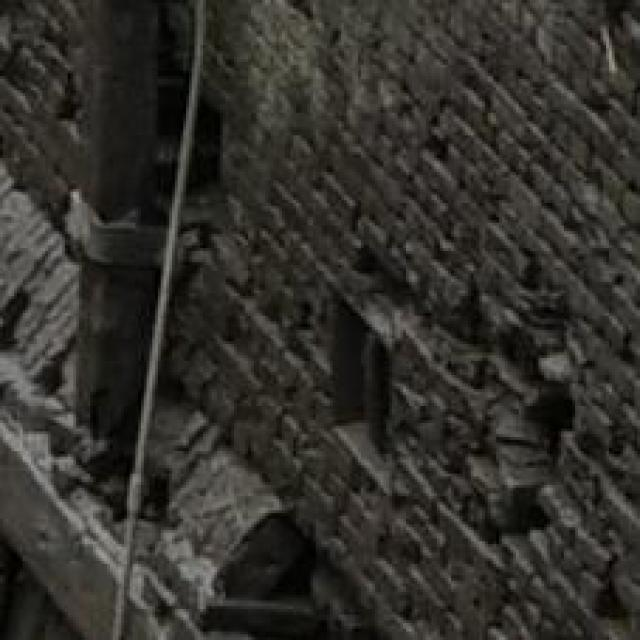Crack: (331, 105, 640, 569)
